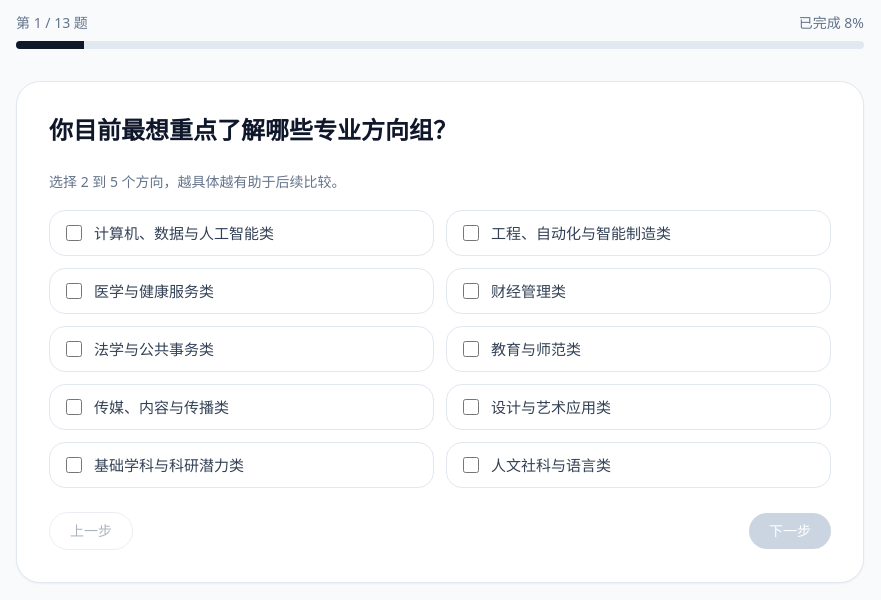
it: questionnaire to report flow › advances to the second step after selecting two direction groups
第一题：候选方向组
Click the checkbox labelled "计算机、数据与人工智能类".
click(74, 233)  # box x1=66 y1=225 x2=82 y2=241
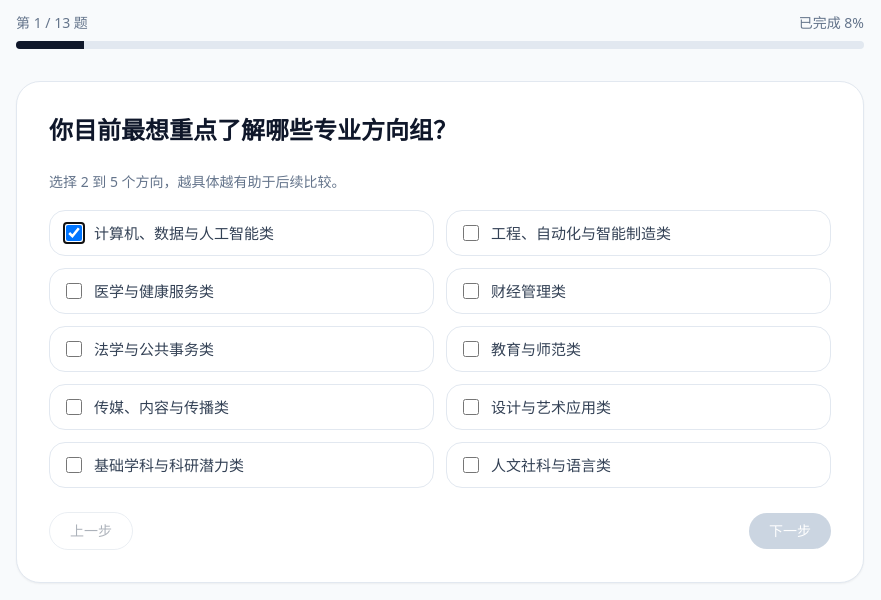
Click the checkbox labelled "财经管理类".
click(471, 291)  # box x1=463 y1=283 x2=479 y2=299
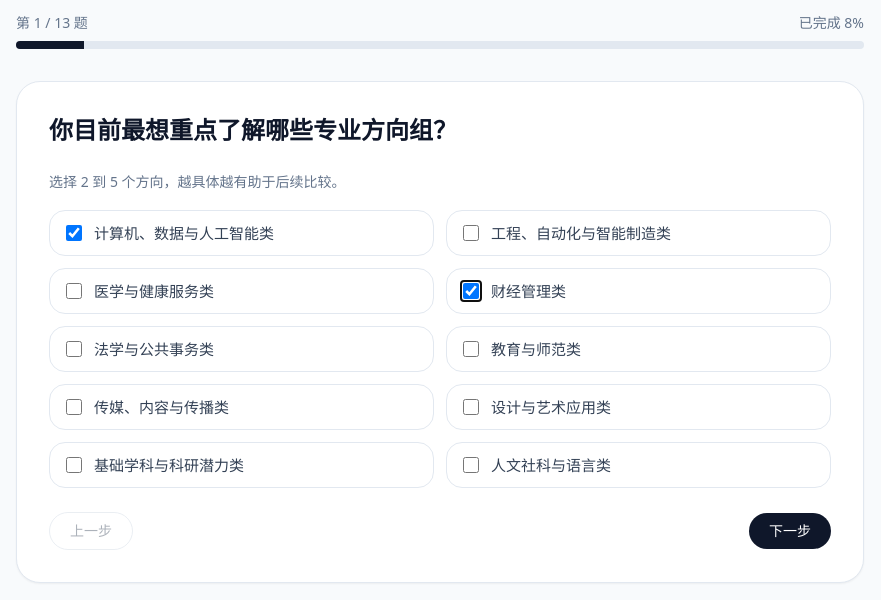
Check: the button "下一步" is enabled
Click the button "下一步".
click(790, 531)  # box x1=749 y1=513 x2=831 y2=549
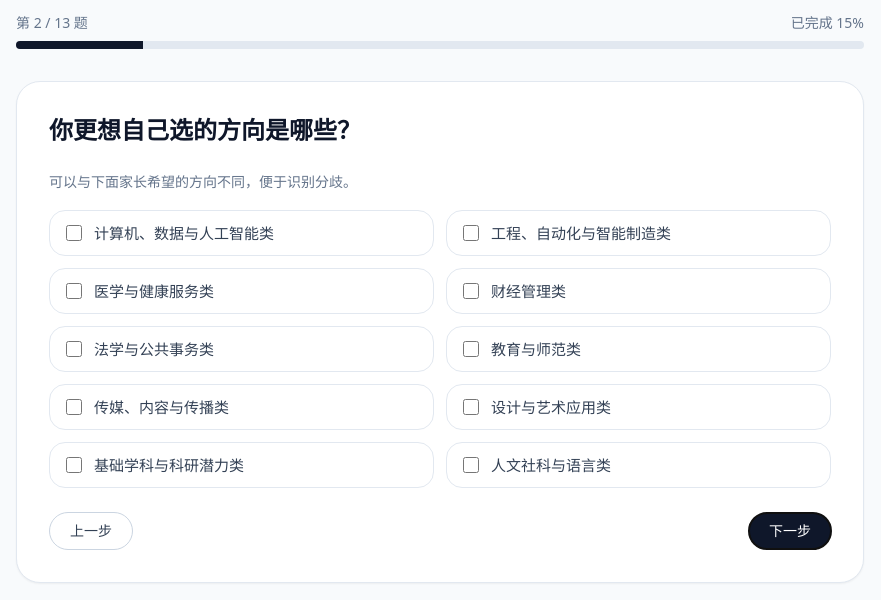
Check: the heading "你更想自己选的方向是哪些？" is shown, box x1=49 y1=113 x2=361 y2=146
